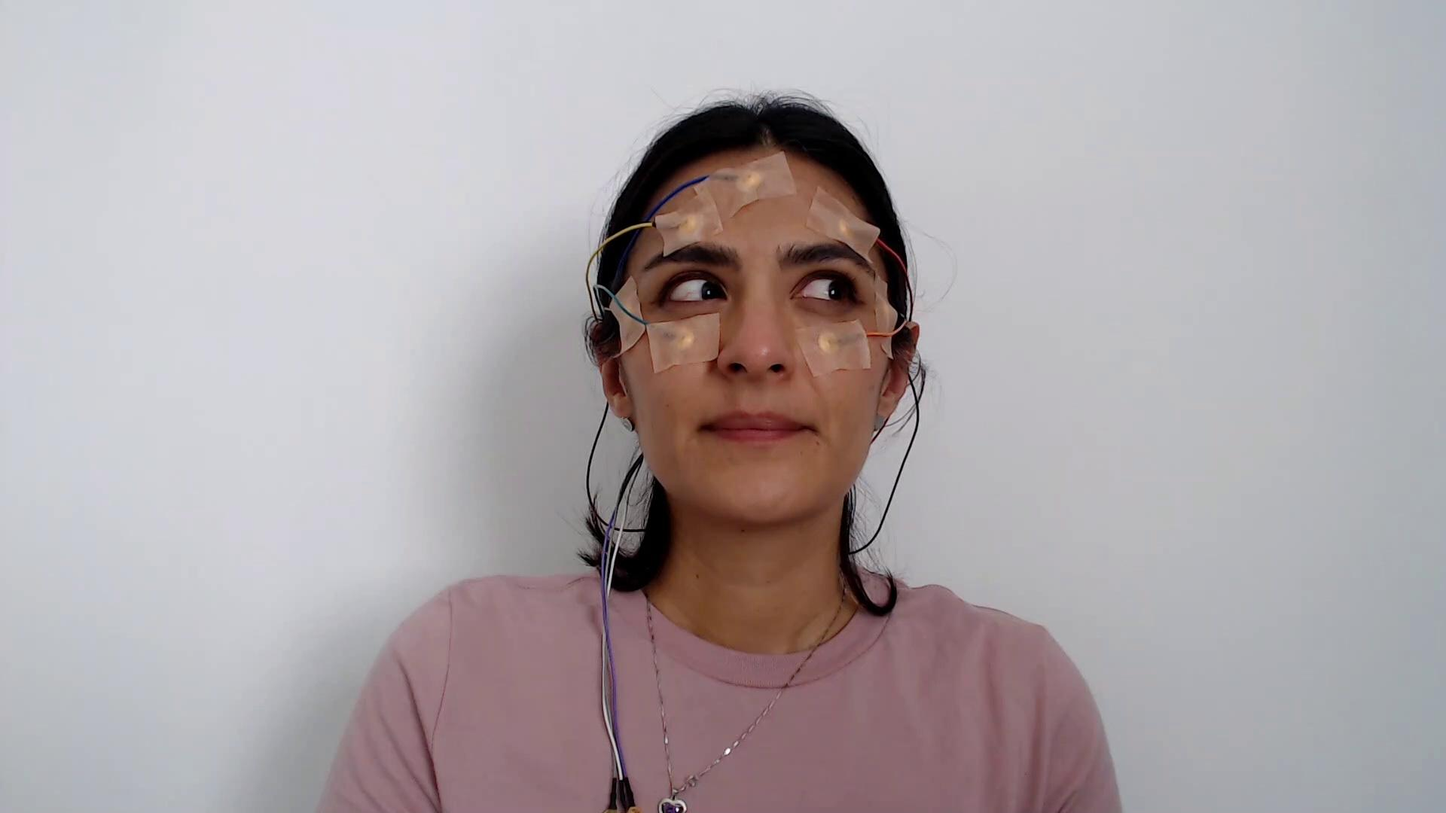Iris: (700, 280, 726, 301), (828, 280, 847, 299)
Ojos: (790, 268, 864, 307), (660, 270, 729, 307)
